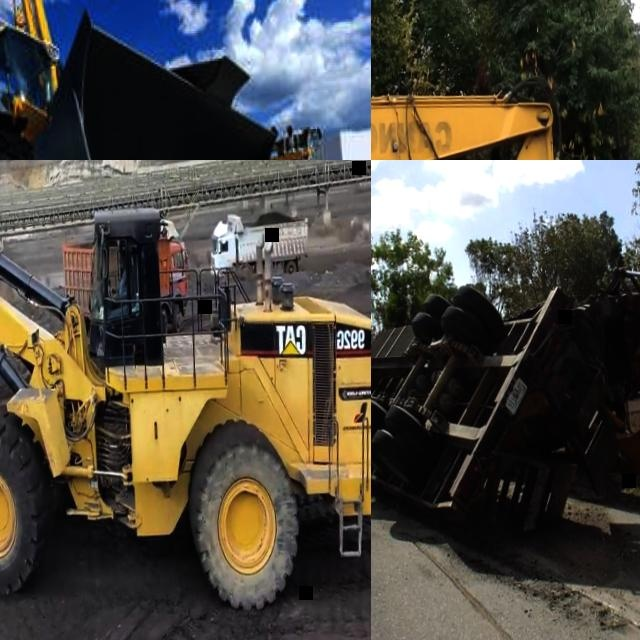NO-Hardhat: (119, 249, 127, 259)
NO-Mask: (119, 262, 125, 271)
NO-Safety Vest: (117, 272, 127, 299)
Person: (105, 247, 131, 316)
machinery: (0, 160, 371, 640), (371, 266, 640, 539), (0, 0, 363, 160), (371, 52, 576, 160), (56, 212, 193, 340), (208, 205, 312, 285)
